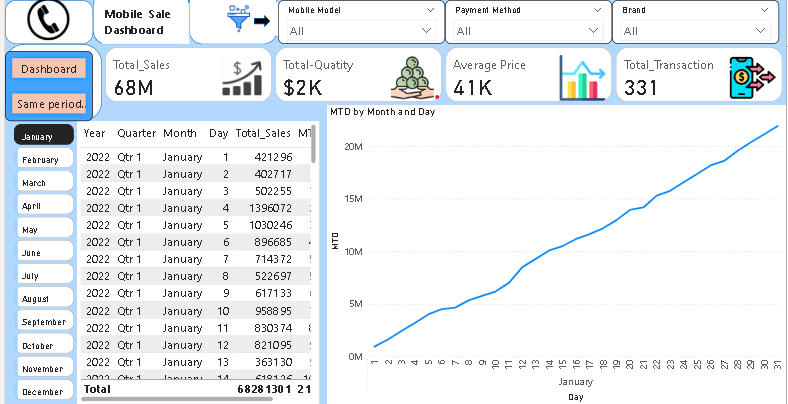

The dashboard page shown, as its layout file describes it:
{"tool":"powerbi","page":{"name":"MTD","canvas":[1280,720],"ordinal":1},"visuals":[{"type":"shape","box":[0,55.4,144.5,72.2],"z":0},{"type":"image","box":[25.2,47,92.4,79],"z":1000},{"type":"shape","box":[0,127.8,159,126.2],"z":2000},{"type":"cardVisual","fields":{"Data":["Mobile Sell.Total_Sales","Mobile Sell.Total-Quatity","Mobile Sell.Average Price","Mobile Sell.Total_Transaction"]},"box":[159.6,127.7,1120.4,100.8],"z":5000},{"type":"slicer","fields":{"Values":["Mobile Sell.Mobile Model"]},"box":[446.8,55.4,273.8,72.2],"z":6000},{"type":"slicer","fields":{"Values":["Mobile Sell.Payment Method"]},"box":[720.6,55.4,273.8,72.2],"z":7000},{"type":"slicer","fields":{"Values":["Mobile Sell.Brand"]},"box":[994.4,55.4,273.8,72.2],"z":8000},{"type":"shape","box":[302.4,38.6,144.5,89],"z":9000},{"type":"image","box":[319.2,58.8,127.7,55.4],"z":10000},{"type":"shape","box":[408.2,80.6,26.9,20.2],"z":11000},{"type":"shape","box":[144.5,42,157.9,85.7],"z":12000},{"type":"textbox","box":[159.6,60.5,142.8,67.2],"z":13000},{"type":"lineChart","fields":{"Y":["Mobile Sell.MTD"],"Category":["Custom_Caleander.Date.Variation.Date Hierarchy.Month","Custom_Caleander.Date.Variation.Date Hierarchy.Day"]},"box":[527.5,228.5,752.5,492.2],"z":13001},{"type":"advancedSlicerVisual","fields":{"Values":["Custom_Caleander.Date.Variation.Date Hierarchy.Month"]},"box":[9.8,254,108.2,465.5],"z":13002},{"type":"tableEx","fields":{"Values":["Custom_Caleander.Date.Variation.Date Hierarchy.Year","Custom_Caleander.Date.Variation.Date Hierarchy.Quarter","Custom_Caleander.Date.Variation.Date Hierarchy.Month","Custom_Caleander.Date.Variation.Date Hierarchy.Day","Mobile Sell.Total_Sales","Mobile Sell.MTD"]},"box":[118,254,396.6,465.5],"z":13003},{"type":"pageNavigator","box":[0,139.3,144.2,114.7],"z":13004}]}

Visuals, with their boxes on the page's 1280x720 design canvas (x1, y1, x2, y2). These are canvas units, not pixel positions in the 788x404 screenshot, which may show the page scaled, cropped or inside an application window:
shape: {"left": 0, "top": 55, "right": 144, "bottom": 128}
image: {"left": 25, "top": 47, "right": 118, "bottom": 126}
shape: {"left": 0, "top": 128, "right": 159, "bottom": 254}
cardVisual - Mobile Sell.Total_Sales x Mobile Sell.Total-Quatity: {"left": 160, "top": 128, "right": 1280, "bottom": 228}
slicer - Mobile Sell.Mobile Model: {"left": 447, "top": 55, "right": 721, "bottom": 128}
slicer - Mobile Sell.Payment Method: {"left": 721, "top": 55, "right": 994, "bottom": 128}
slicer - Mobile Sell.Brand: {"left": 994, "top": 55, "right": 1268, "bottom": 128}
shape: {"left": 302, "top": 39, "right": 447, "bottom": 128}
image: {"left": 319, "top": 59, "right": 447, "bottom": 114}
shape: {"left": 408, "top": 81, "right": 435, "bottom": 101}
shape: {"left": 144, "top": 42, "right": 302, "bottom": 128}
textbox: {"left": 160, "top": 60, "right": 302, "bottom": 128}
lineChart - Mobile Sell.MTD x Custom_Caleander.Date.Variation.Date Hierarchy.Month: {"left": 528, "top": 228, "right": 1280, "bottom": 721}
advancedSlicerVisual - Custom_Caleander.Date.Variation.Date Hierarchy.Month: {"left": 10, "top": 254, "right": 118, "bottom": 720}
tableEx - Custom_Caleander.Date.Variation.Date Hierarchy.Year x Custom_Caleander.Date.Variation.Date Hierarchy.Quarter: {"left": 118, "top": 254, "right": 515, "bottom": 720}
pageNavigator: {"left": 0, "top": 139, "right": 144, "bottom": 254}
